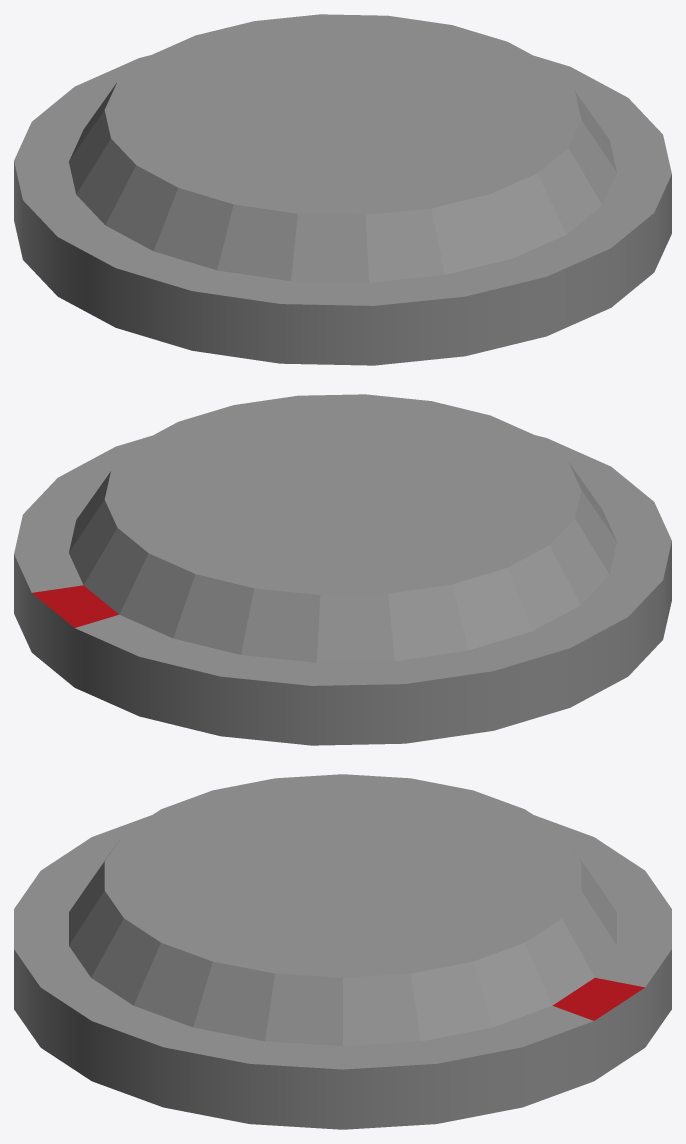
File: SwitchPad.FBX
The picture shows the model from 3 angles, top to bottom: view 1: azimuth 30°, elevation 25°; view 2: azimuth 150°, elevation 25°; view 3: azimuth 270°, elevation 25°; orthographic projection.
Visible parts, largest first — view 1: Cylinder001; view 2: Cylinder001; view 3: Cylinder001.
Boxes of the visible parts, box(x1,y1,x2,y2) form: Cylinder001: box(14, 14, 671, 365); Cylinder001: box(14, 394, 671, 745); Cylinder001: box(14, 774, 671, 1129).
Size of the model in its own units: 50 by 9.41 by 49.49.
Materials: 4 (1 with a texture image).
